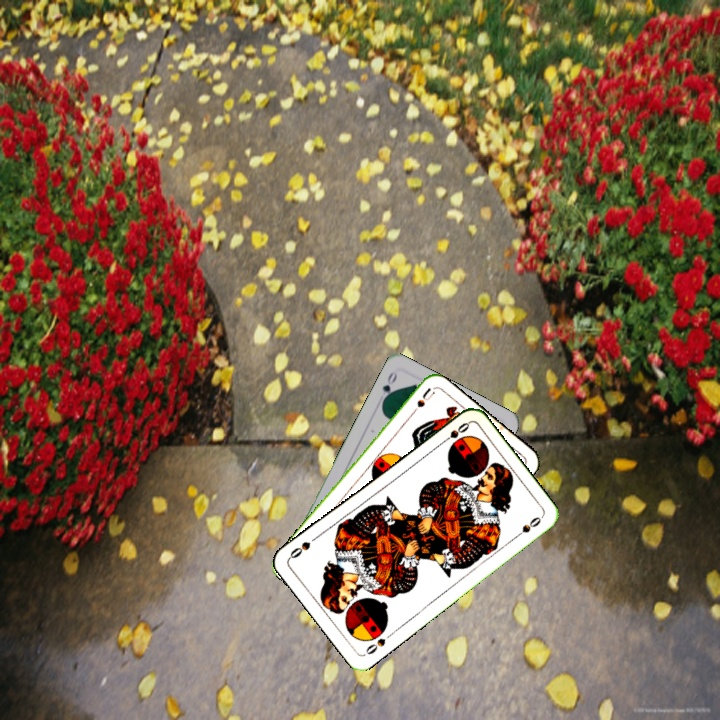GO: (378, 368, 400, 406)
SO: (436, 418, 472, 447), (362, 634, 388, 657)
SU: (405, 384, 437, 420)
